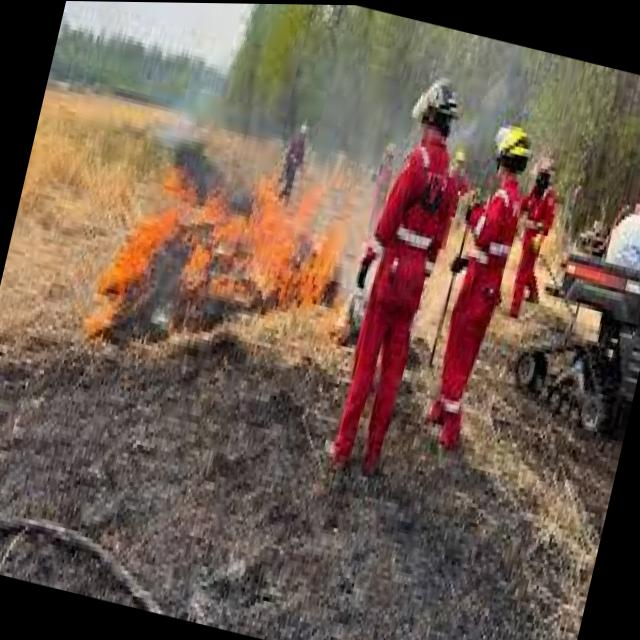Fire: (71, 99, 385, 412)
